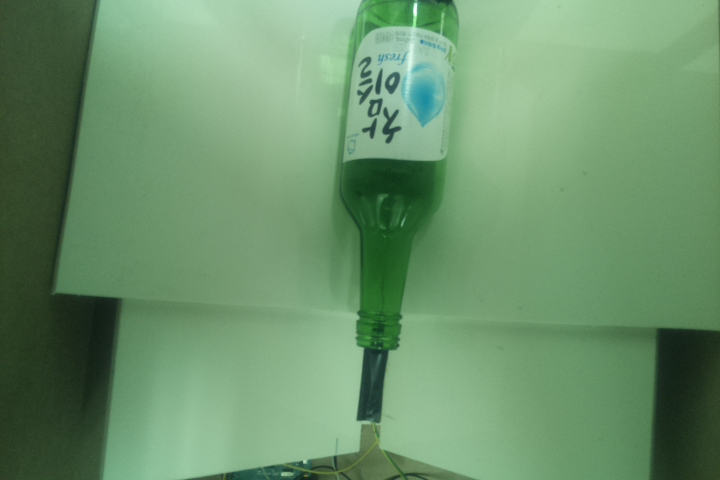soju: (336, 1, 457, 350)
